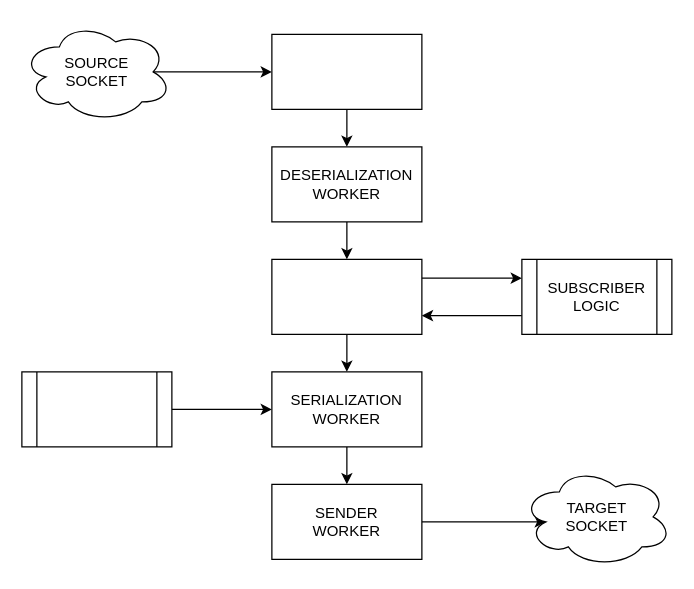
Some shapes in this 694 by 589 pixel diagram are drawn without their labels. Each missing label, with the centre of its shape:
"HANDLER WORKER" goes at point 346,296.
"RECEIVER WORKER" goes at point 346,71.
"SEND MESSAGE" goes at point 96,409.
